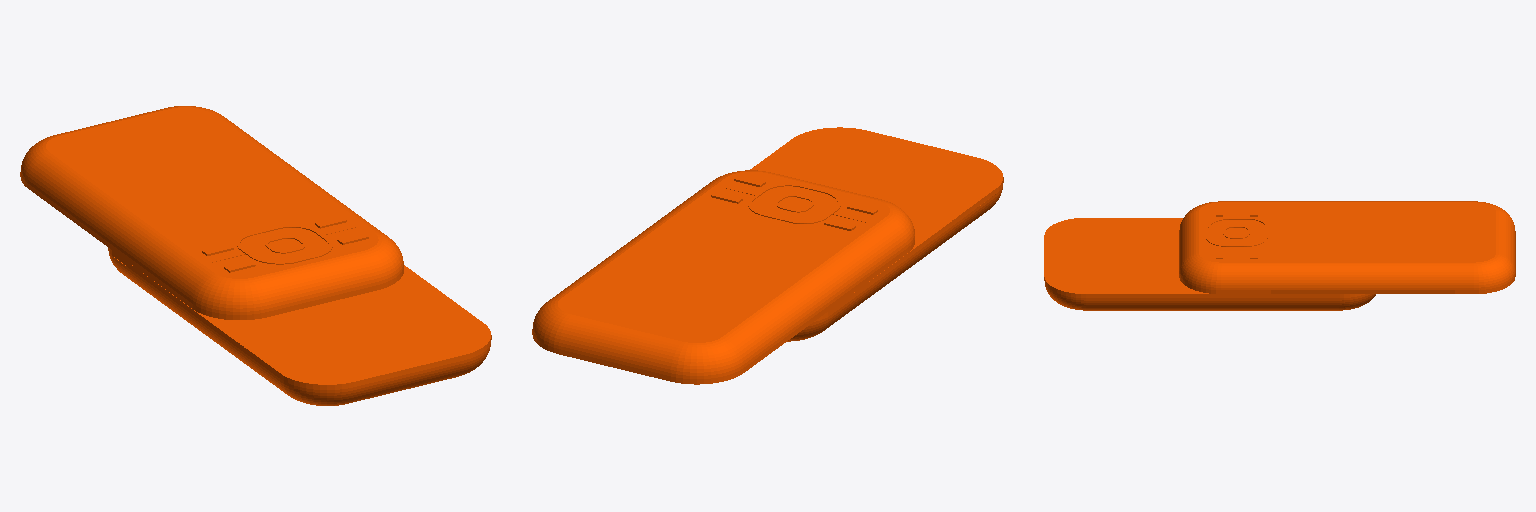
URDF robot description (CellPhone_a4387fd1049722f53adb21a59d529cb8):
<?xml version="1.0" ?>
<robot name="CellPhone_a4387fd1049722f53adb21a59d529cb8">
   <material name="obj_color">
      <color rgba="1.0 0.423529411765 0.0392156862745 1.0"/>
   </material>
   <link name="top">
      <inertial>
         <origin rpy="0.0002446164121415509 0.001353574910131217 0.001565333276586173" xyz="-0.0002744268287093982 0.000310941629472599 -0.0001611236878651421"/>
         <mass value="0.3939456943434902"/>
         <inertia ixx="0.001353574318579844" ixy="-8.676019815580356e-07" ixz="-1.767763863402798e-07" iyy="0.0002465743463789626" iyz="-5.08048734785575e-05" izz="0.001563375933900134"/>
      </inertial>
      <visual>
         <origin rpy="0 0 0" xyz="0 0 0"/>
         <geometry>
            <mesh filename="top_watertight_tiny.stl" scale="1 1 1"/>
         </geometry>
         <material name="obj_color"/>
      </visual>
      <collision>
         <origin rpy="0 0 0" xyz="0 0 0"/>
         <geometry>
            <mesh filename="top_watertight_tiny.obj" scale="1 1 1"/>
         </geometry>
      </collision>
   </link>
   <link name="bottom">
      <inertial>
         <origin rpy="1.633333333199431e-08 1.633333333199431e-08 1.633333333362855e-08" xyz="0.3464080000000008 0.3464080000000008 0.3464080000000008"/>
         <mass value="0.0009800000000000017"/>
         <inertia ixx="1.633333333253906e-08" ixy="5.447480642029219e-19" ixz="5.447480642029219e-19" iyy="1.633333333253906e-08" iyz="5.447480642029219e-19" izz="1.633333333253906e-08"/>
      </inertial>
      <visual>
         <origin rpy="0 0 0" xyz="0 0 0"/>
         <geometry>
            <mesh filename="bottom_watertight_tiny.stl" scale="1 1 1"/>
         </geometry>
         <material name="obj_color"/>
      </visual>
   </link>
   <link name="world"/>
   <joint name="world_to_base" type="fixed">
      <origin xyz="0 0 0"/>
      <axis xyz="0 0 0"/>
      <parent link="world"/>
      <child link="bottom"/>
   </joint>
   <joint name="rotation" type="revolute">
      <origin xyz="0 0 0"/>
      <axis xyz="0 0 -1"/>
      <parent link="bottom"/>
      <child link="top"/>
      <dynamics damping="1.0" friction="1.0"/>
      <limit effort="0.1" velocity="0.1" lower="0" upper="0.001"/>
   </joint>
</robot>

--- What the picture shows (computed from the rendered views, not written in the file) ---
3 views of the same robot in one strip: view 1: azimuth 30°, elevation 25°; view 2: azimuth 150°, elevation 25°; view 3: azimuth 270°, elevation 25° (orthographic).
Robot: CellPhone_a4387fd1049722f53adb21a59d529cb8 — 3 links, 2 joints (1 revolute, 1 fixed); root link world; default pose: all joints at 0.
Links seen in each view (by area): view 1: top; view 2: top; view 3: top.
Boxes of the visible links, bbox=[...] form: top: bbox=[20, 106, 491, 405]; top: bbox=[532, 127, 1003, 384]; top: bbox=[1044, 201, 1515, 310].
Size in the robot's own frame: 0.0883 by 0.229 by 0.0262 metres.
Meshes: 2 distinct files referenced, 1 mesh visuals loaded (1 binary STL); not drawn: 1 (reference not matched to a file when rendering).
